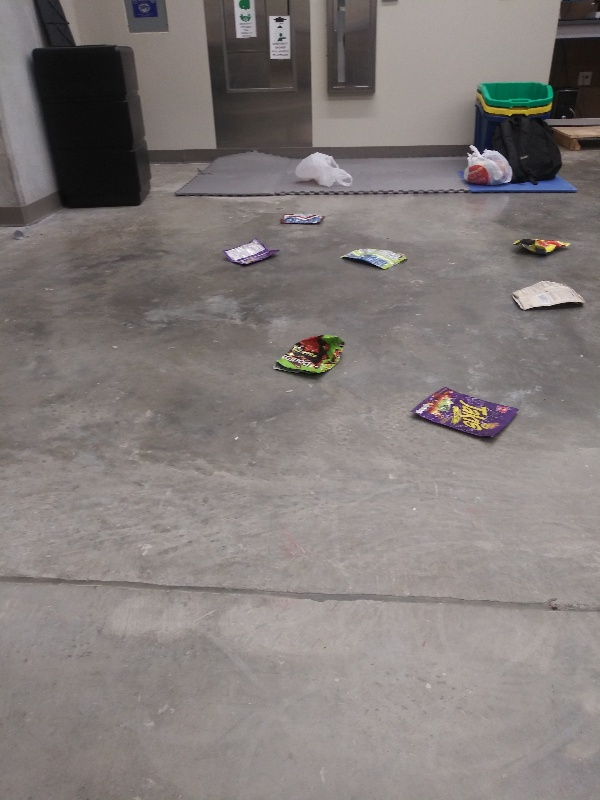bag: (410, 385, 520, 443), (270, 332, 349, 378), (510, 280, 588, 314), (220, 237, 283, 269), (336, 246, 411, 270), (512, 234, 575, 256), (280, 210, 326, 227)
